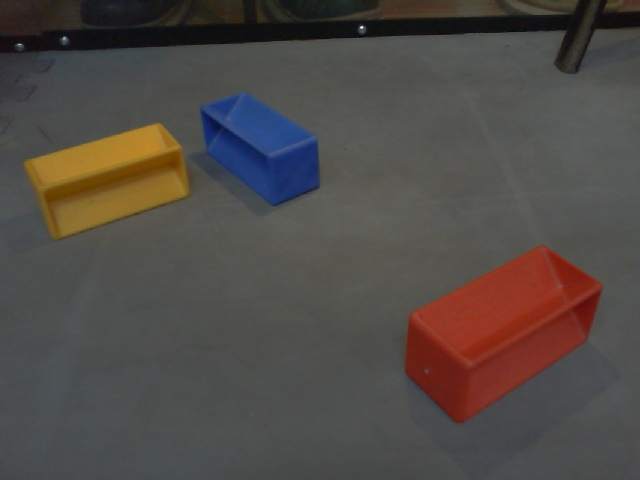BlueSample: (198, 90, 321, 209)
RedSample: (402, 240, 606, 424)
YellowSample: (20, 120, 192, 242)
